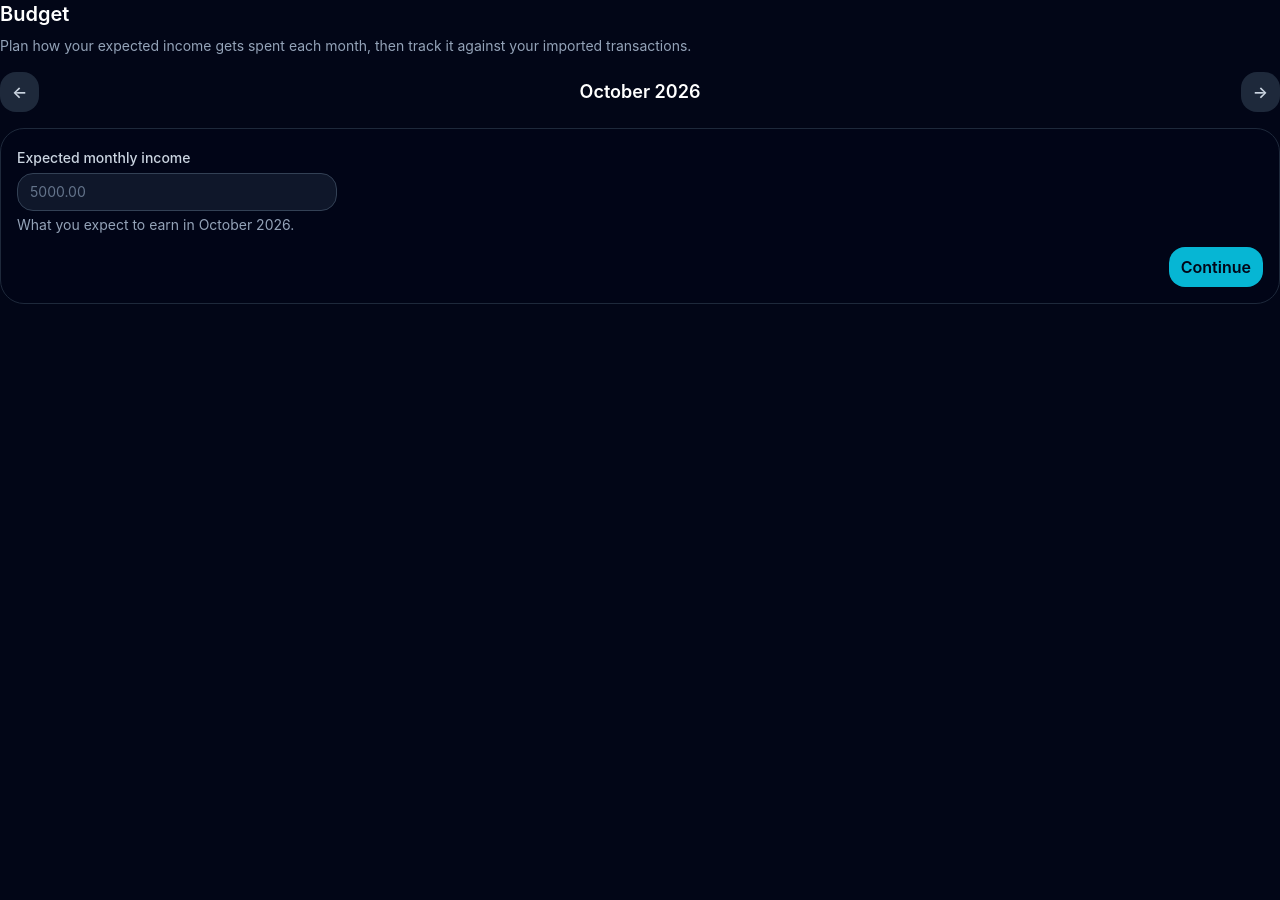
BudgetTab › saves slider allocations as cents and shows the saved view
Type "5000" into the field labelled "Expected monthly income" at [177, 192], box [17,173,337,211]
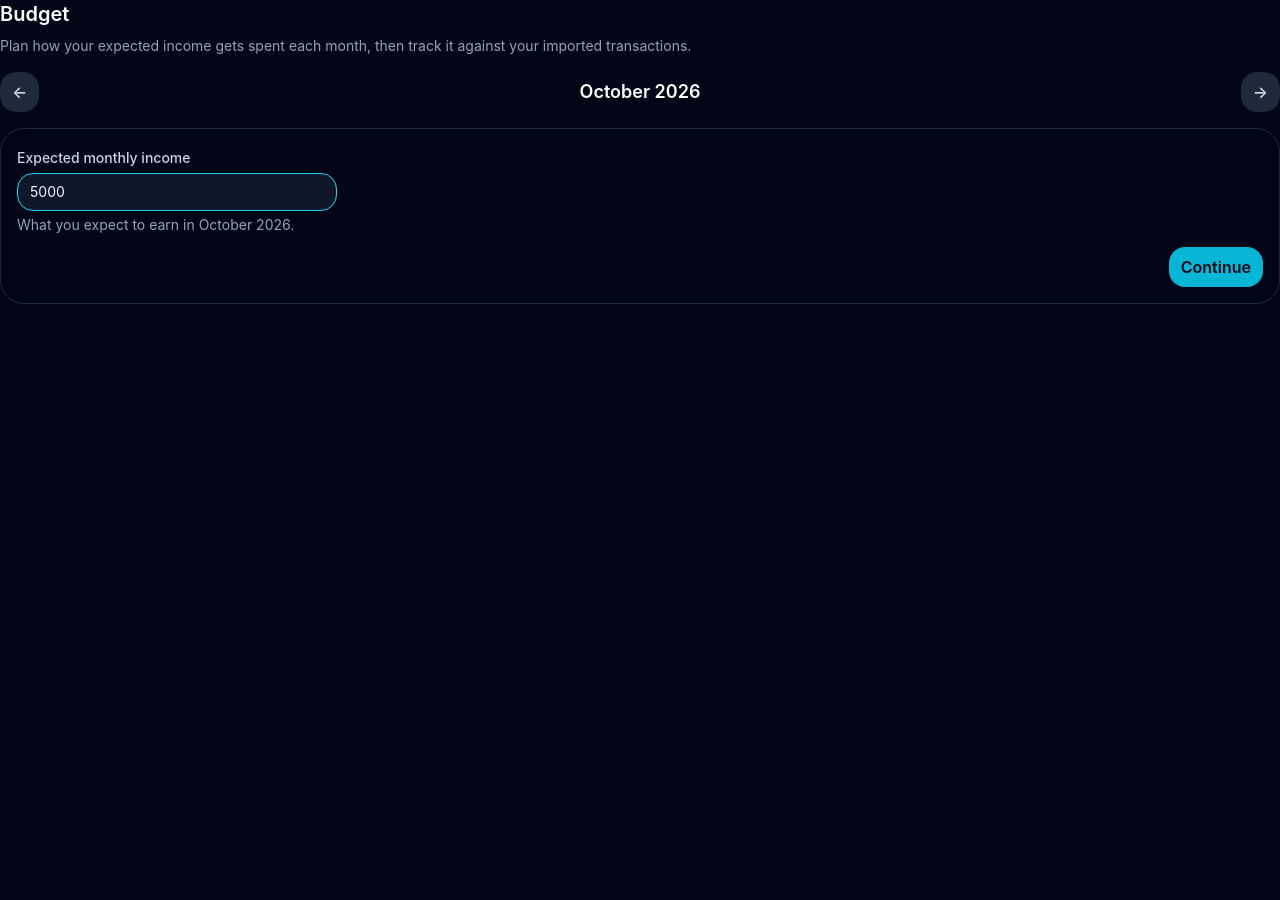
Click the button "Continue" at [1216, 267], box [1169,247,1263,287]
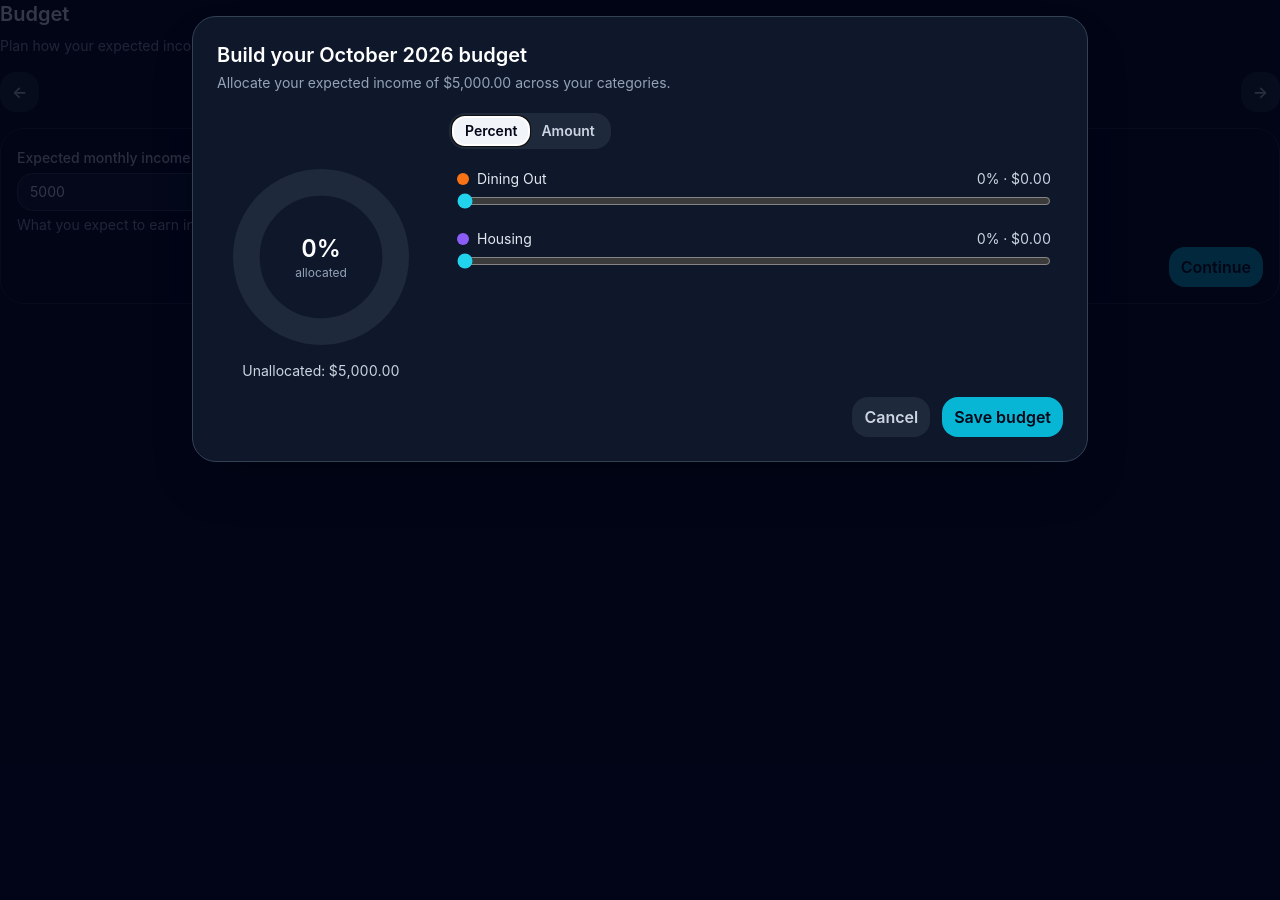
Set the slider named "Housing percent" to "30" at [638, 261], box [457,253,1051,269]
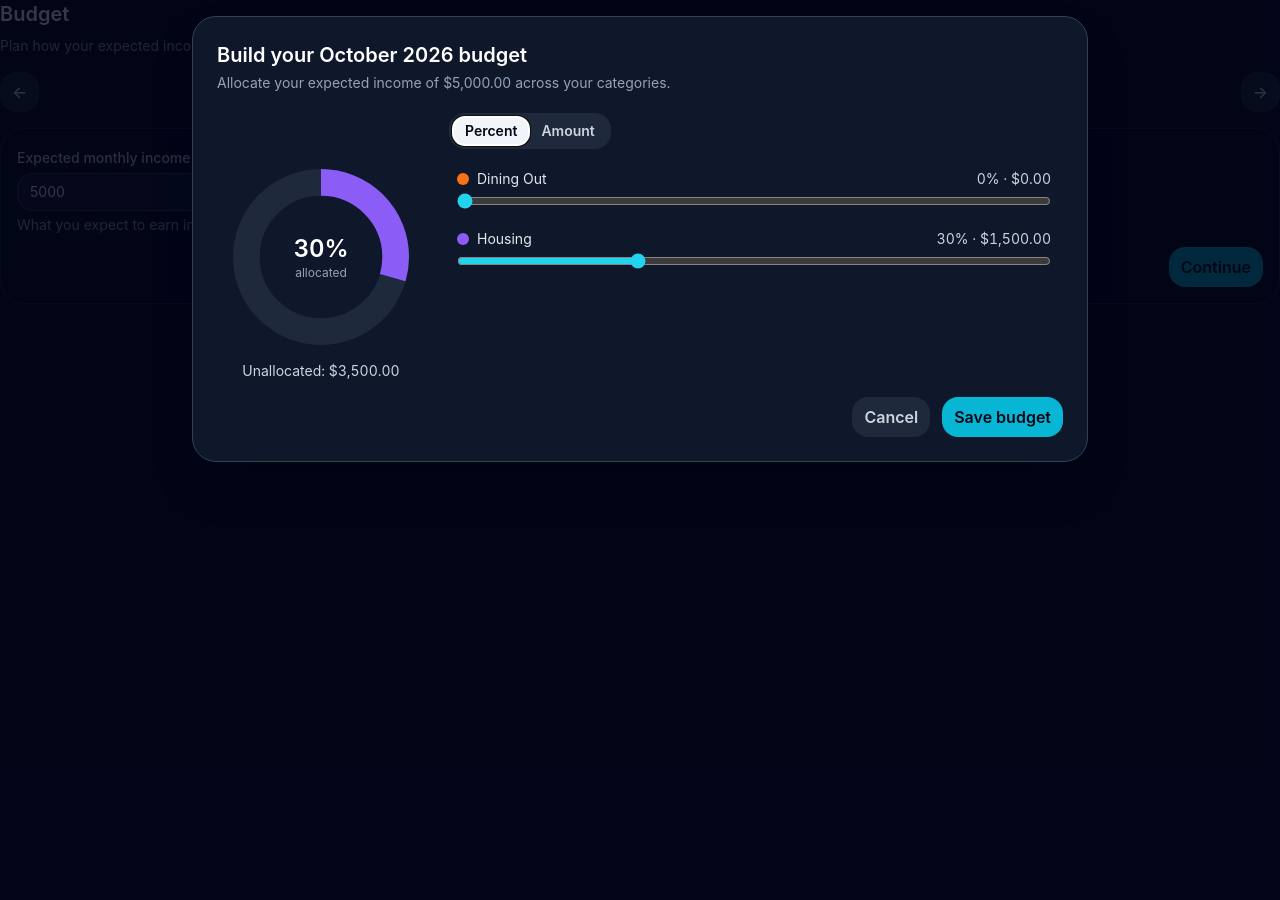
Set the slider named "Dining Out percent" to "12.5" at [537, 201], box [457,193,1051,209]
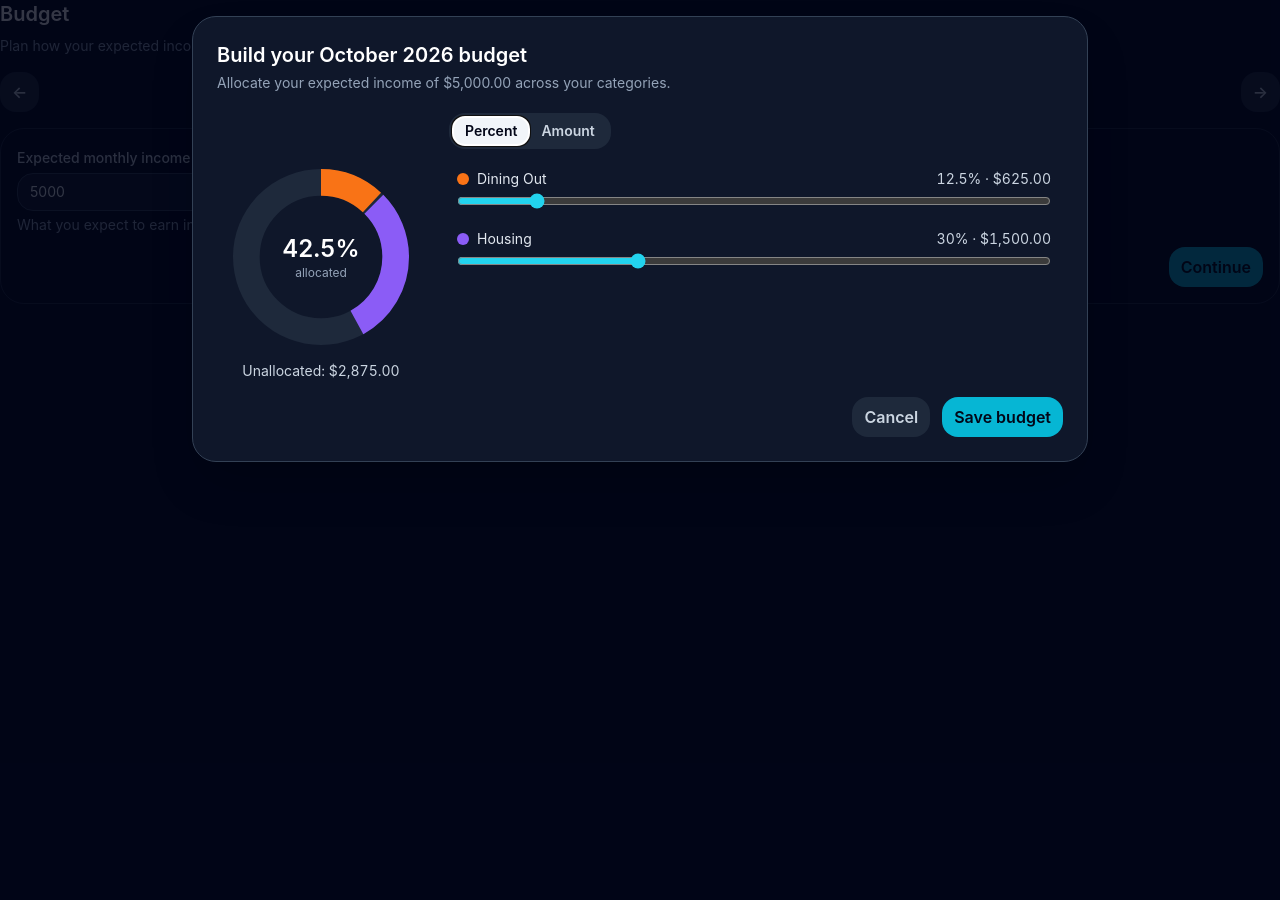
Result: the picture named "42.5% of income allocated" is shown at [225,161,417,353]
Click the button "Save budget" at [1003, 417], box [942,397,1063,437]
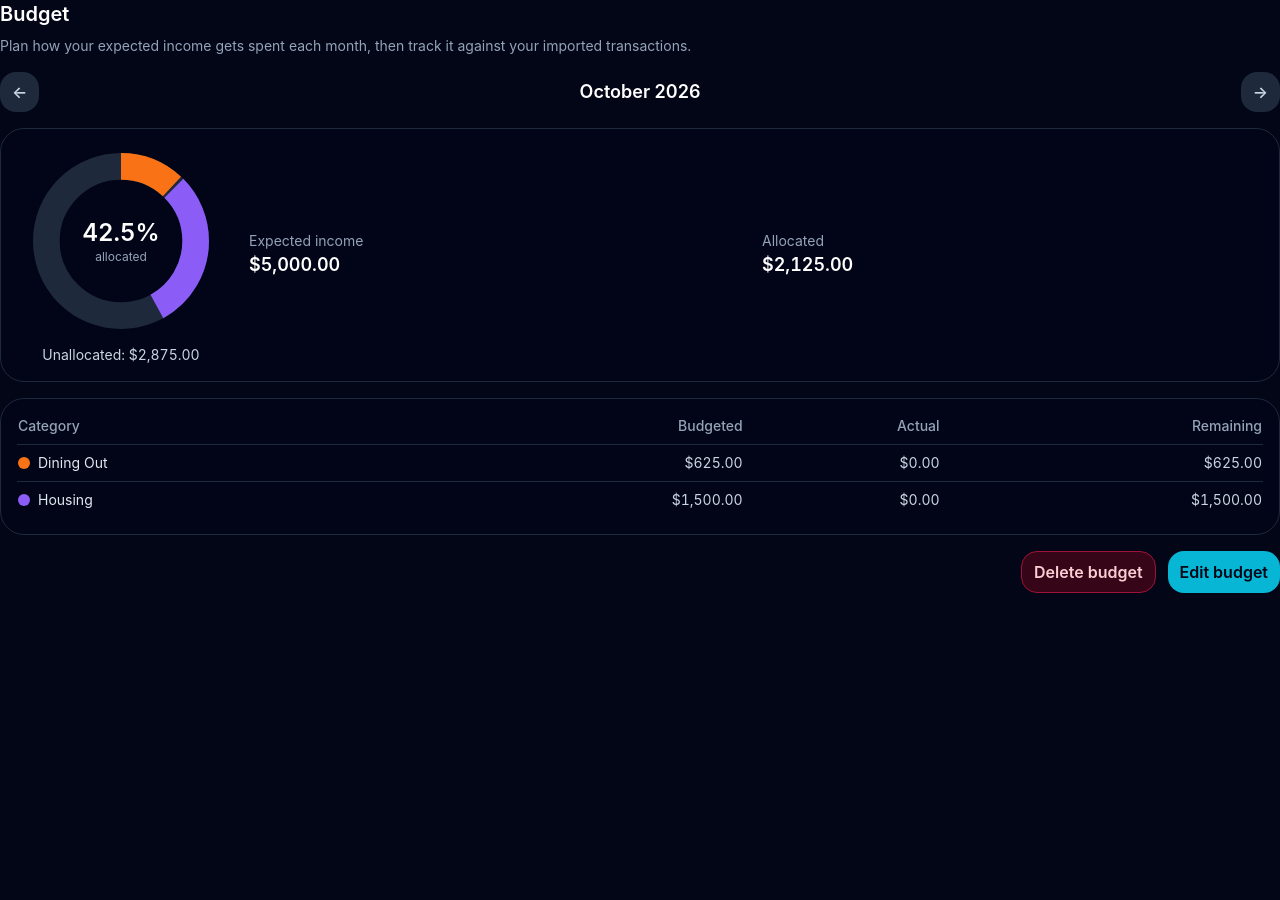
Result: the dialog is gone
Result: the table named "Budget for October 2026" is shown at [17,415,1263,518]
